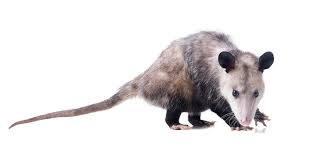opossum: (9, 30, 275, 130)
